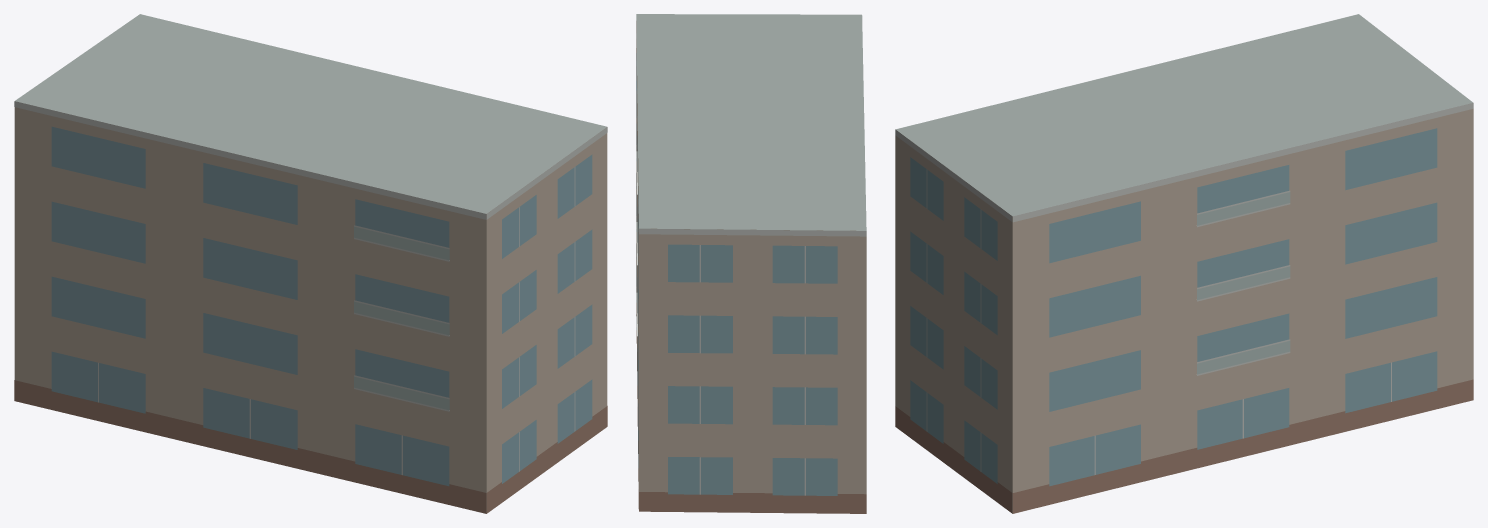
The model's file is survey-upis-32766594.glb.
The picture shows the model from 3 angles, left to right: view 1: azimuth 30°, elevation 25°; view 2: azimuth 150°, elevation 25°; view 3: azimuth 270°, elevation 25°; orthographic projection. The views are drawn at different scales.
Visible parts, largest first — view 1: survey-upis-32766594.tmp; view 2: survey-upis-32766594.tmp; view 3: survey-upis-32766594.tmp.
Part boxes in pixels (left/top/right/bottom): survey-upis-32766594.tmp: left=14, top=14, right=607, bottom=513; survey-upis-32766594.tmp: left=636, top=14, right=866, bottom=513; survey-upis-32766594.tmp: left=895, top=14, right=1473, bottom=513.
Size of the model in its own units: 17.82 by 12.2 by 21.5.
